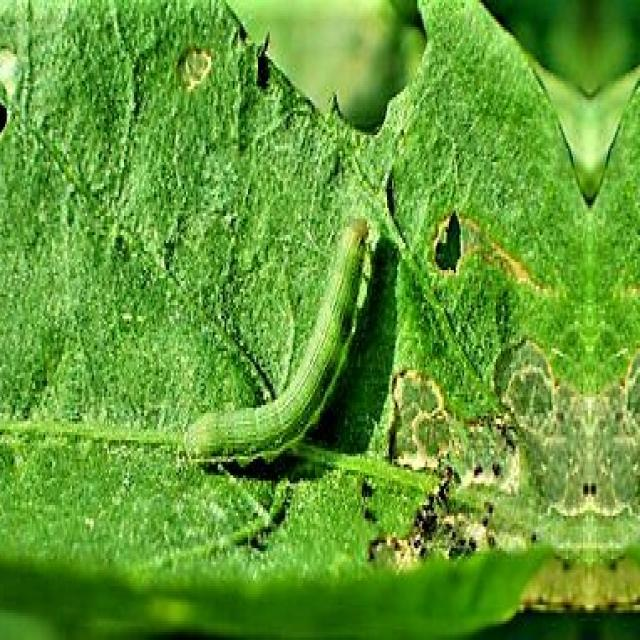Armyworm: (171, 191, 363, 488)
Armyworm_damage: (414, 206, 472, 306)
